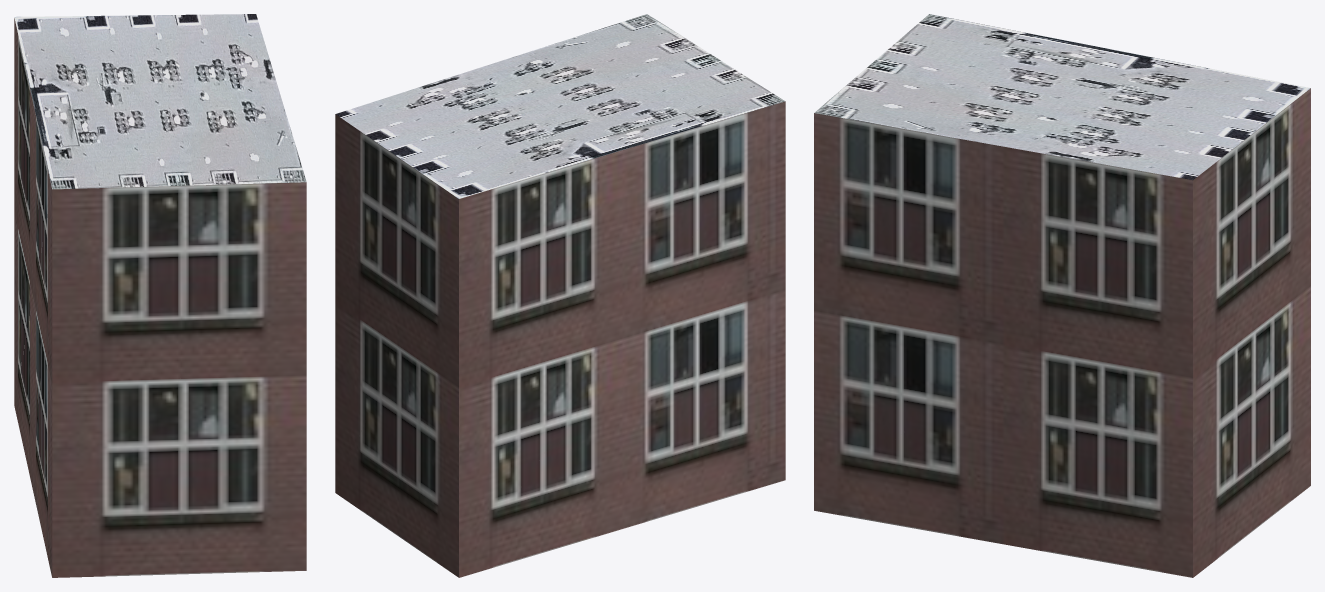
The model's file is ResTex__579.fbx.
3 renders of one model, left to right at view 1: azimuth 30°, elevation 25°; view 2: azimuth 150°, elevation 25°; view 3: azimuth 270°, elevation 25°, orthographic. The views are drawn at different scales.
Parts seen in each view (by area): view 1: CityEngineMaterial_12_m, CityEngineMaterial_m; view 2: CityEngineMaterial_12_m, CityEngineMaterial_m; view 3: CityEngineMaterial_12_m, CityEngineMaterial_m.
Boxes of the visible parts, x1,y1,x2,y2 form: CityEngineMaterial_12_m: (14,18,306,577); CityEngineMaterial_m: (14,14,306,189); CityEngineMaterial_12_m: (335,101,785,577); CityEngineMaterial_m: (335,14,784,198); CityEngineMaterial_12_m: (814,88,1310,577); CityEngineMaterial_m: (814,14,1310,179).
Bounding box in the file's own units: 5.38 × 6 × 6.79.
Materials: 2 (2 with a texture image).
